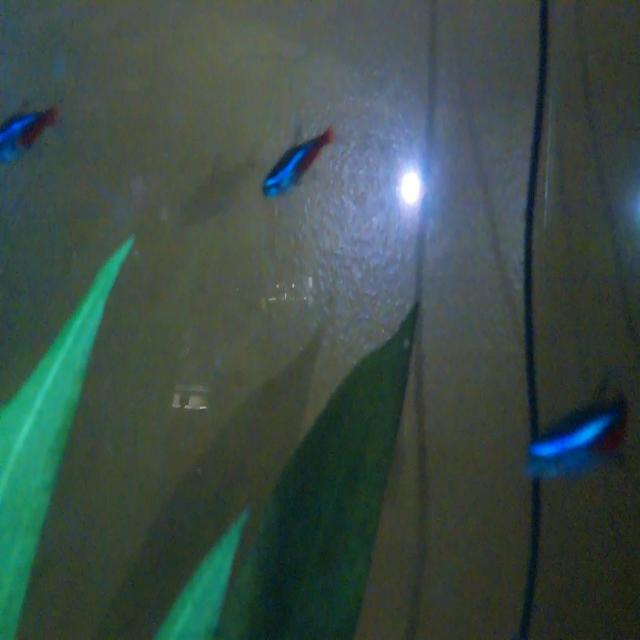fish: (250, 124, 346, 218), (0, 89, 65, 178)
